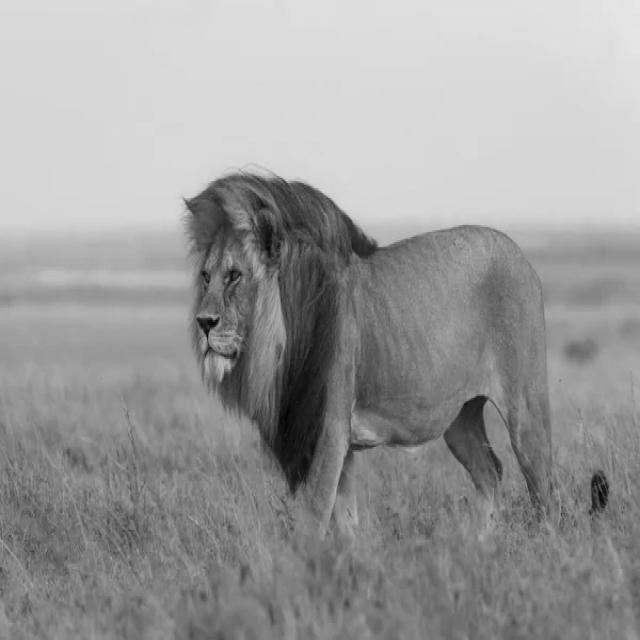Animal: (187, 174, 556, 529)
